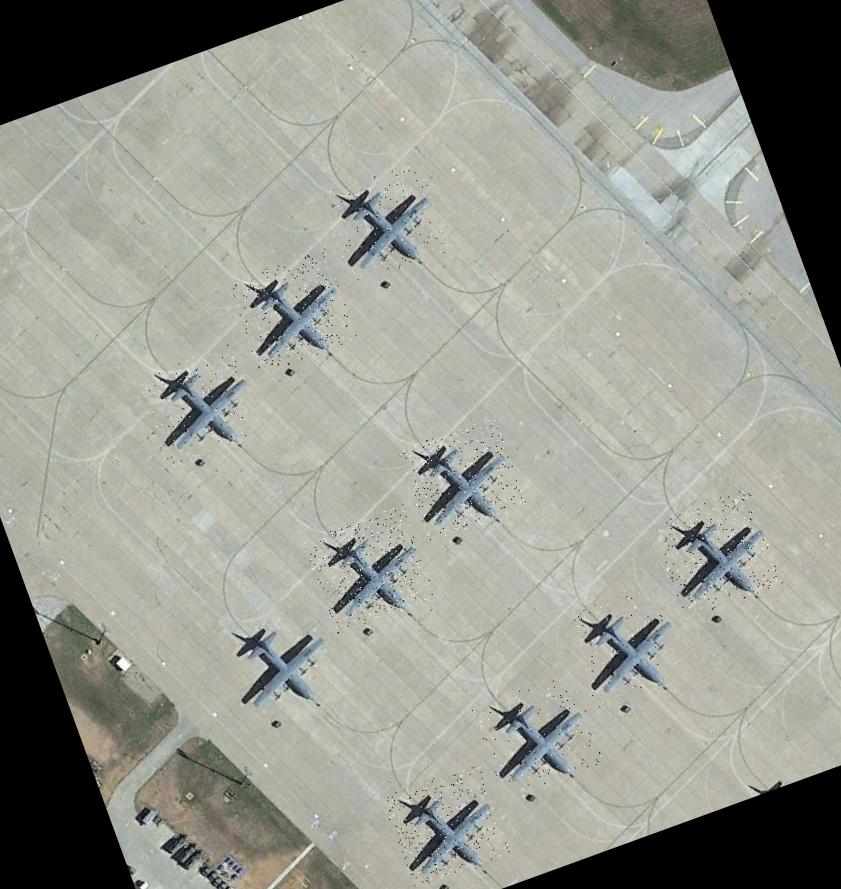A2: (316, 158, 454, 290), (650, 487, 782, 619), (302, 504, 436, 634), (226, 247, 358, 376), (470, 671, 604, 798), (380, 762, 511, 889), (396, 415, 526, 542), (136, 342, 264, 468), (213, 600, 343, 723), (562, 583, 686, 709)
